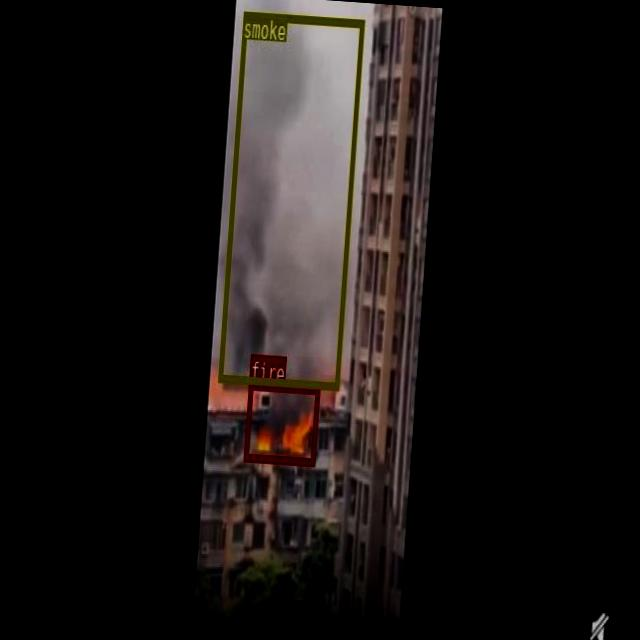fire: (244, 380, 319, 464)
smoke: (217, 10, 364, 388)
